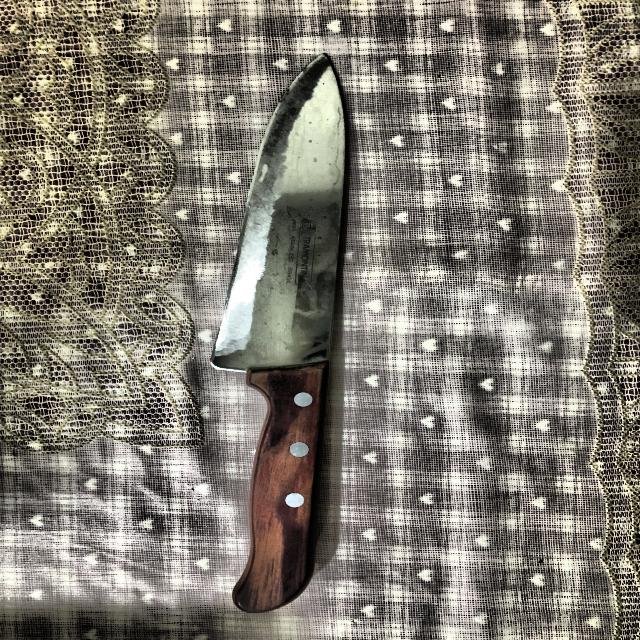knife: (216, 57, 346, 613)
